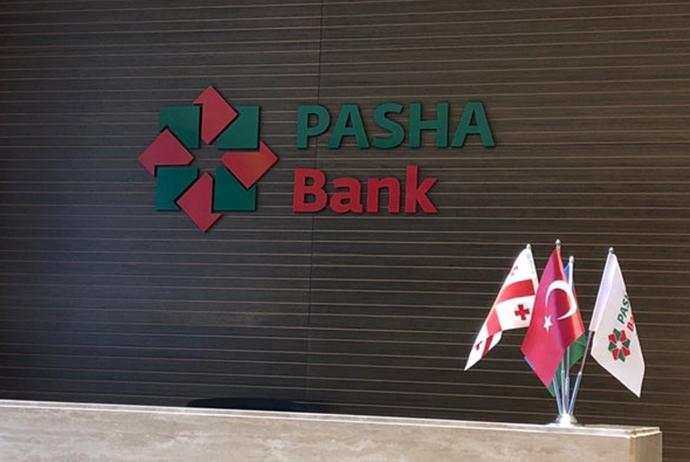Pasha Bank: (133, 82, 281, 236), (604, 327, 633, 361)
